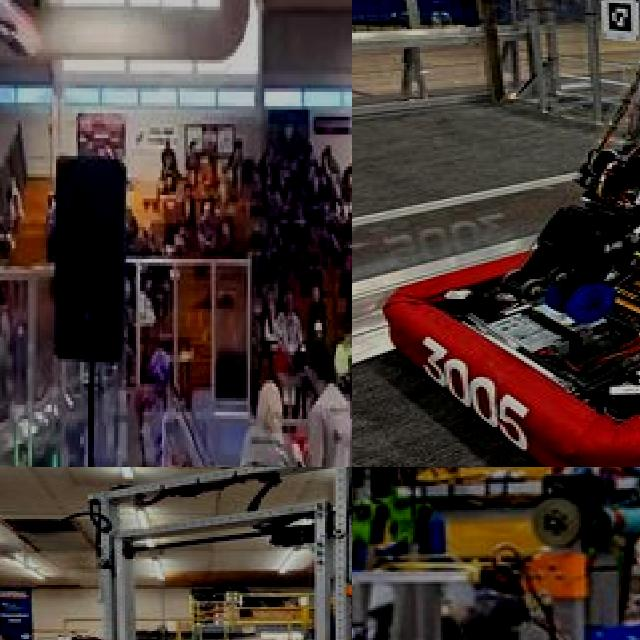FRC-Robots: (410, 0, 640, 467), (0, 467, 352, 640), (459, 467, 640, 640), (352, 467, 444, 640), (156, 381, 220, 467)
